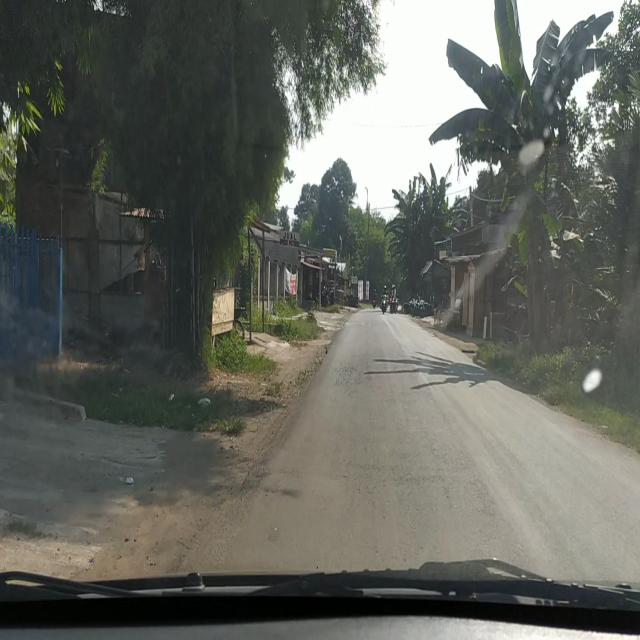Drain Hole: (331, 362, 373, 397)
